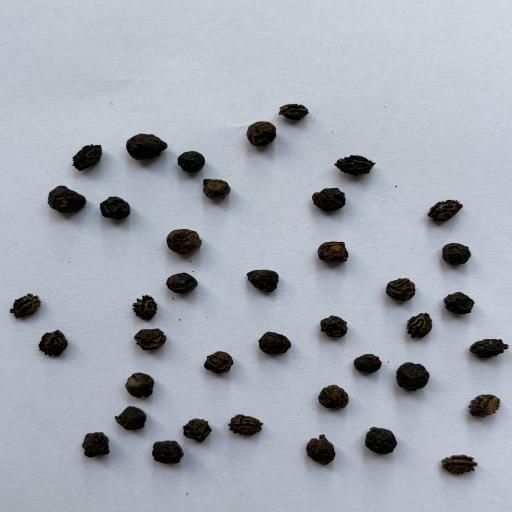Black_pepper: (390, 351, 442, 399), (159, 262, 224, 300), (96, 184, 144, 235), (305, 180, 356, 227), (117, 126, 167, 166), (60, 425, 112, 463), (164, 220, 214, 258), (41, 184, 95, 218), (312, 308, 363, 344), (241, 268, 300, 298), (108, 401, 163, 433), (194, 175, 240, 212), (239, 118, 279, 159), (129, 322, 179, 354), (358, 422, 404, 455), (121, 368, 168, 400), (440, 285, 482, 320), (139, 436, 186, 467), (375, 276, 427, 304), (316, 238, 357, 272), (316, 378, 354, 414), (436, 240, 480, 270), (349, 347, 390, 376), (171, 142, 205, 176), (204, 346, 238, 380), (255, 329, 296, 357), (306, 430, 336, 466), (178, 418, 214, 444)
papaya_seed: (456, 385, 512, 434), (454, 322, 509, 368), (2, 280, 52, 323), (322, 145, 380, 180), (414, 194, 470, 228), (225, 408, 278, 439), (64, 138, 106, 174), (38, 329, 82, 363), (120, 289, 162, 321), (438, 452, 486, 478), (403, 307, 435, 343), (274, 103, 316, 121)
